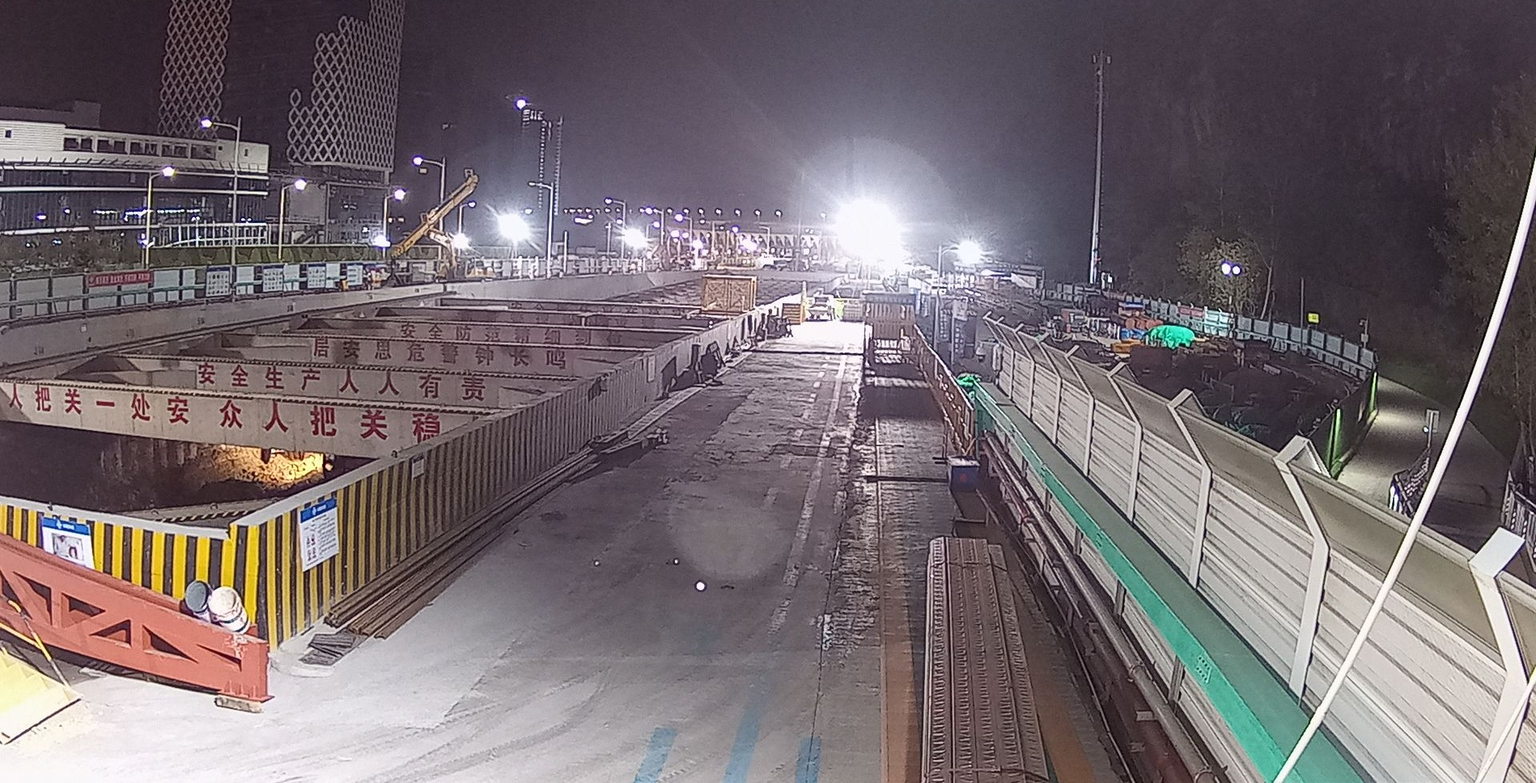过爆灯光: (826, 194, 912, 271), (495, 214, 531, 243), (622, 228, 647, 249), (450, 233, 471, 249), (372, 235, 390, 247)
